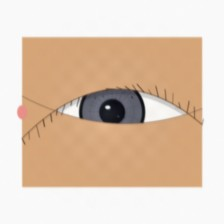hemorrhage_spot: (70, 98, 137, 151)
